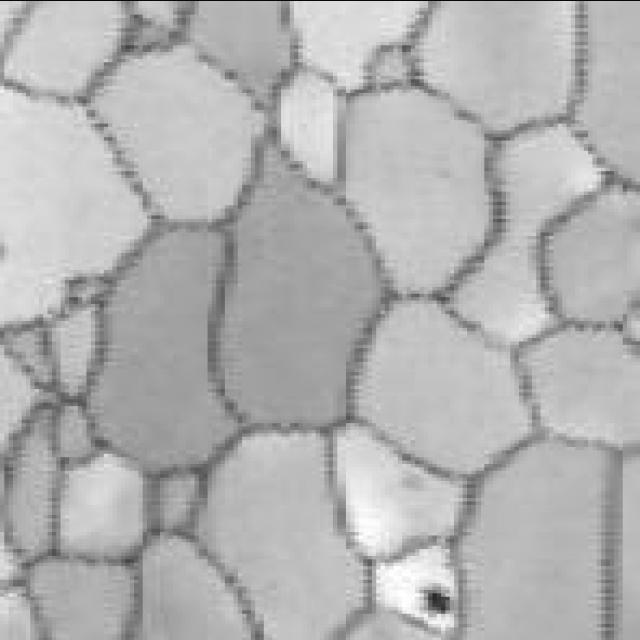good_void: (416, 581, 451, 615)
